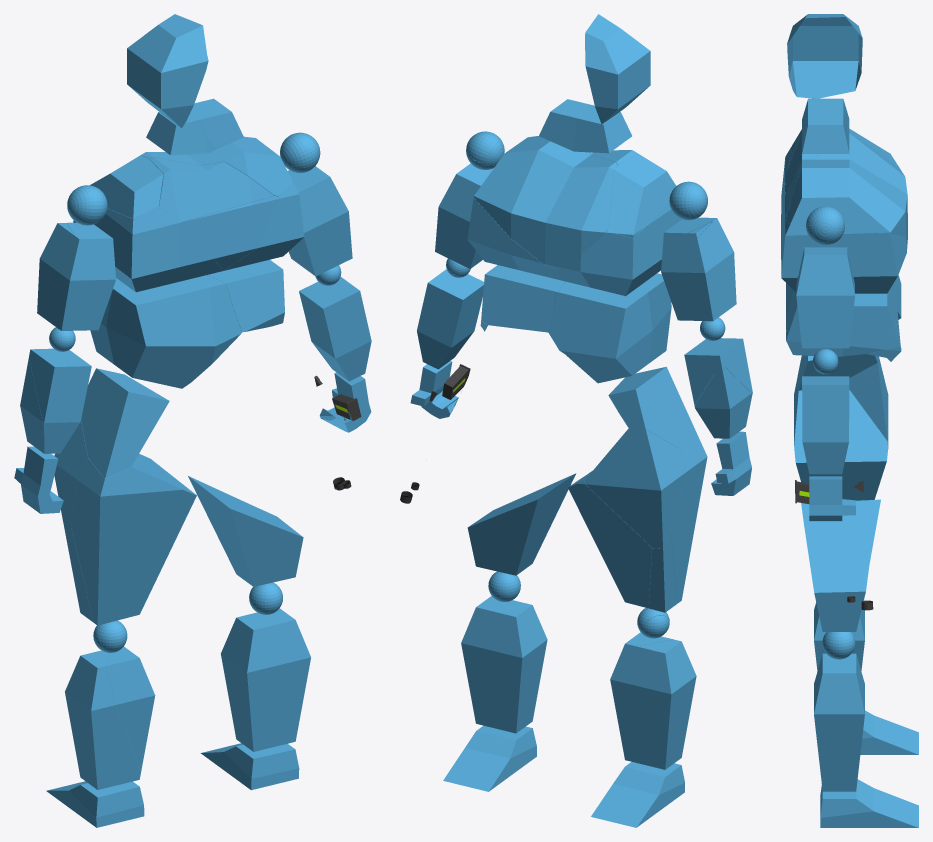
Rendered from char_break.fbx.
The picture shows the model from 3 angles, left to right: view 1: azimuth 30°, elevation 25°; view 2: azimuth 150°, elevation 25°; view 3: azimuth 270°, elevation 25°; orthographic projection. The views are drawn at different scales.
Parts seen in each view (by area): view 1: Cube.001_cell.004, Cube.001_cell.011, Cube.001_cell.030, Cube.001_cell.043, Cube.001_cell.037, Cube.001_cell.042, Cube.001_cell.022, Cube.001_cell.041, Cube.001_cell.028, Cube.001_cell.014, Cube.001_cell.013, Cube.001_cell.033 (+19 smaller); view 2: Cube.001_cell.012, Cube.001_cell.011, Cube.001_cell.030, Cube.001_cell.037, Cube.001_cell.004, Cube.001_cell.008, Cube.001_cell.043, Cube.001_cell.028, Cube.001_cell.022, Cube.001_cell.042, Cube.001_cell.014, Cube.001_cell.041 (+16 smaller); view 3: Cube.001_cell.012, Cube.001_cell.028, Cube.001_cell.030, Cube.001_cell.022, Cube.001_cell.033, Cube.001_cell.032, Cube.001_cell.014, Cube.001_cell.004, Cube.001_cell.005, Cube.001_cell.029, Cube.001_cell.047, Cube.001_cell.036 (+12 smaller).
Boxes of the visible parts, x1,y1,x2,y2 form: Cube.001_cell.004: (71, 453, 196, 625); Cube.001_cell.011: (90, 275, 241, 388); Cube.001_cell.030: (221, 608, 310, 751); Cube.001_cell.043: (37, 222, 115, 330); Cube.001_cell.037: (65, 650, 140, 789); Cube.001_cell.042: (73, 206, 222, 292); Cube.001_cell.022: (127, 14, 208, 150); Cube.001_cell.041: (81, 368, 169, 478); Cube.001_cell.028: (188, 476, 303, 586); Cube.001_cell.014: (299, 276, 371, 381); Cube.001_cell.013: (149, 157, 274, 222); Cube.001_cell.033: (288, 166, 352, 276); Cube.001_cell.012: (473, 136, 617, 270); Cube.001_cell.011: (548, 273, 671, 383); Cube.001_cell.030: (461, 596, 547, 733); Cube.001_cell.037: (612, 639, 696, 769); Cube.001_cell.004: (568, 441, 707, 608); Cube.001_cell.008: (585, 428, 685, 548); Cube.001_cell.043: (661, 217, 736, 321); Cube.001_cell.028: (467, 473, 576, 575); Cube.001_cell.022: (585, 14, 650, 149); Cube.001_cell.042: (559, 199, 681, 296); Cube.001_cell.014: (417, 269, 484, 369); Cube.001_cell.041: (608, 366, 700, 448); Cube.001_cell.012: (786, 132, 907, 237); Cube.001_cell.028: (801, 499, 880, 631); Cube.001_cell.030: (814, 653, 864, 791); Cube.001_cell.022: (787, 14, 862, 98); Cube.001_cell.033: (796, 247, 854, 348); Cube.001_cell.032: (781, 223, 907, 293); Cube.001_cell.014: (802, 376, 849, 474); Cube.001_cell.004: (794, 383, 888, 500); Cube.001_cell.005: (786, 287, 900, 356); Cube.001_cell.029: (820, 779, 918, 827); Cube.001_cell.047: (802, 98, 849, 153); Cube.001_cell.036: (860, 710, 918, 754).
Bounding box in the file's own units: 458 × 1017 × 167.
